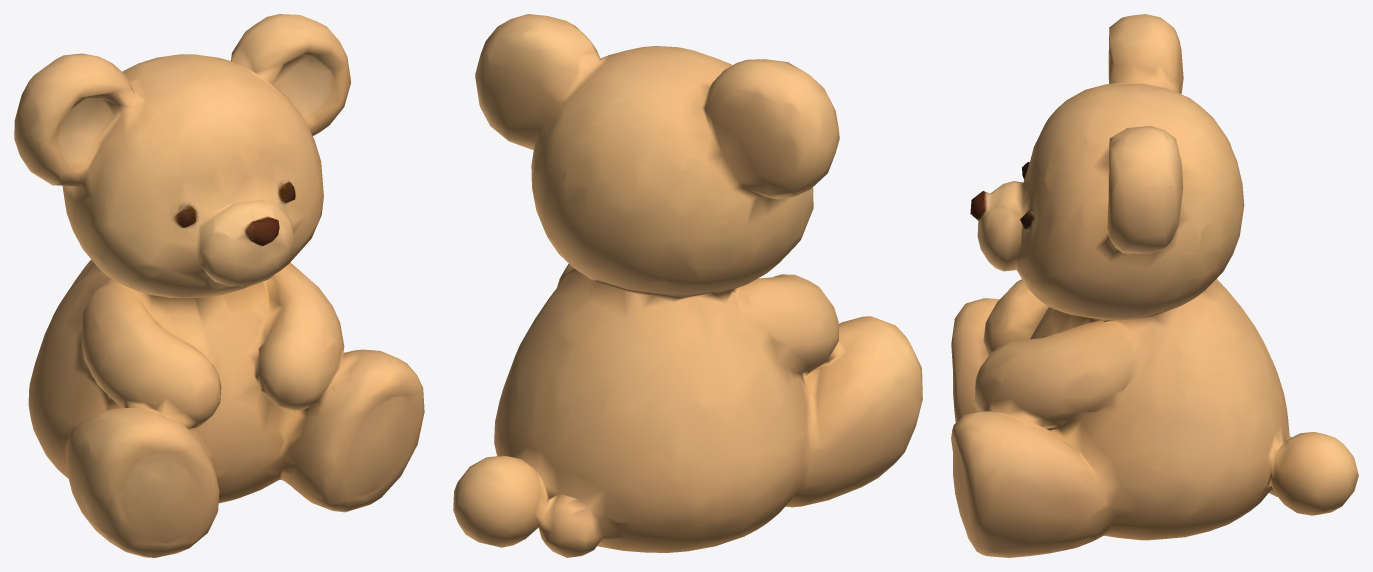
The model's file is factory-product-bear.glb.
3 views of the same model, side by side, from view 1: azimuth 30°, elevation 25°; view 2: azimuth 150°, elevation 25°; view 3: azimuth 270°, elevation 25° (orthographic). The views are drawn at different scales.
Visible parts, largest first — view 1: product; view 2: product; view 3: product.
Part boxes in pixels (box(x1,y1,x2,y2)): product: box(14, 14, 424, 557); product: box(453, 14, 922, 557); product: box(951, 14, 1358, 557).
Size of the model in its own units: 0.5945 by 0.75 by 0.6392.
Materials: 1 (1 with a texture image).
